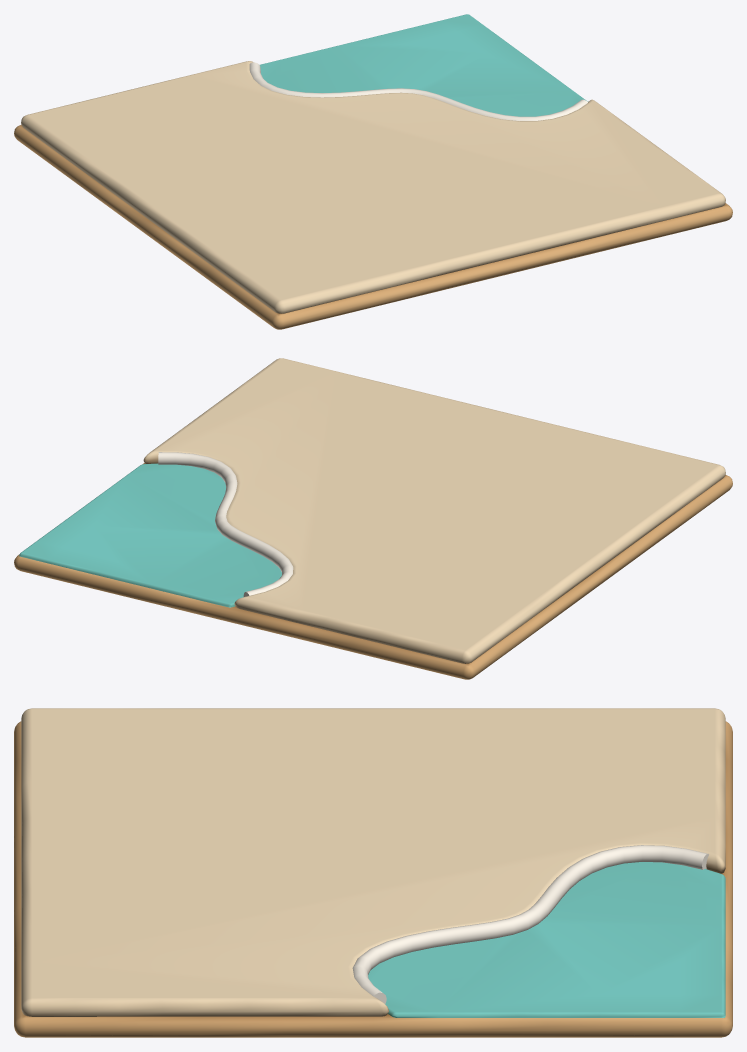
File: tile_coast_b.glb
3 views of the same model, one above another, from view 1: azimuth 30°, elevation 25°; view 2: azimuth 150°, elevation 25°; view 3: azimuth 270°, elevation 25° (orthographic). The views are drawn at different scales.
Parts seen in each view (by area): view 1: sand_top, water, base, foam; view 2: sand_top, water, base, foam; view 3: sand_top, water, base, foam.
Boxes of the visible parts, x1,y1,x2,y2 form: sand_top: (21, 61, 725, 313); water: (260, 14, 587, 116); base: (14, 125, 732, 329); foam: (249, 62, 587, 120); sand_top: (143, 358, 725, 663); water: (19, 463, 281, 607); base: (14, 463, 732, 679); foam: (158, 452, 293, 596); sand_top: (21, 708, 725, 1016); water: (368, 862, 725, 1017); base: (14, 721, 732, 1037); foam: (352, 845, 708, 1003).
Size of the model in its own units: 4 by 0.23 by 4.
